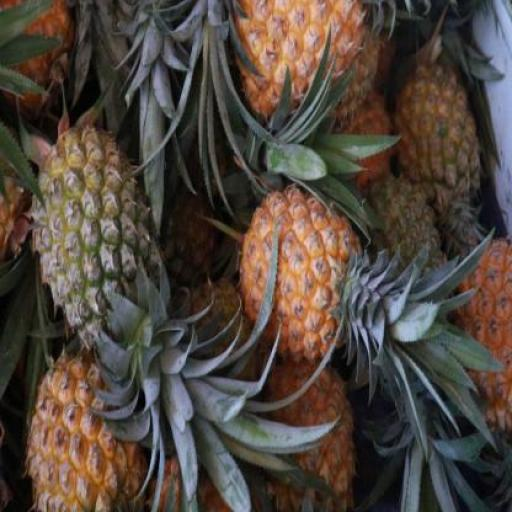------------------------------: (30, 122, 162, 344)
Pineapple - v8 v1: (238, 192, 360, 377), (27, 340, 143, 512)
